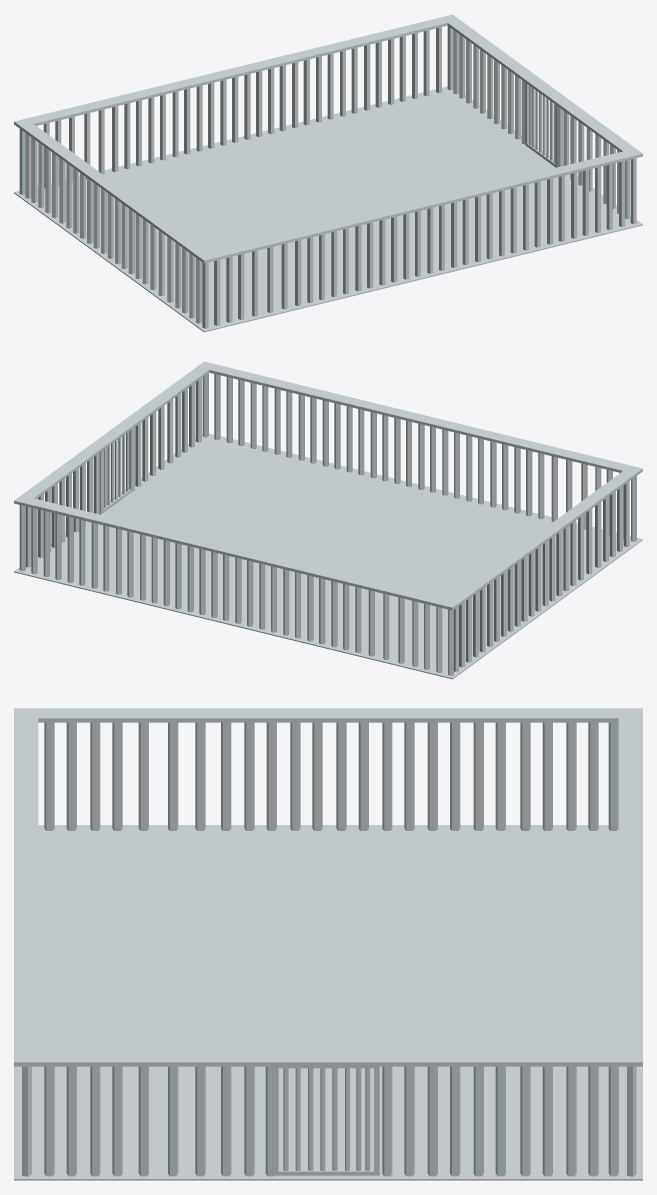
File: Cage.fbx
3 renders of one model, top to bottom at view 1: azimuth 30°, elevation 25°; view 2: azimuth 150°, elevation 25°; view 3: azimuth 270°, elevation 25°, orthographic. The views are drawn at different scales.
Visible parts, largest first — view 1: Cylinder.017, Cylinder.125; view 2: Cylinder.017, Cylinder.125; view 3: Cylinder.017, Cylinder.125.
Boxes of the visible parts, box(x1,y1,x2,y2) form: Cylinder.017: box(14, 14, 642, 332); Cylinder.125: box(525, 82, 556, 167); Cylinder.017: box(14, 361, 642, 679); Cylinder.125: box(99, 429, 132, 514); Cylinder.017: box(14, 708, 642, 1180); Cylinder.125: box(274, 1066, 379, 1175).
Size of the model in its own units: 2848 by 445 by 2139.
